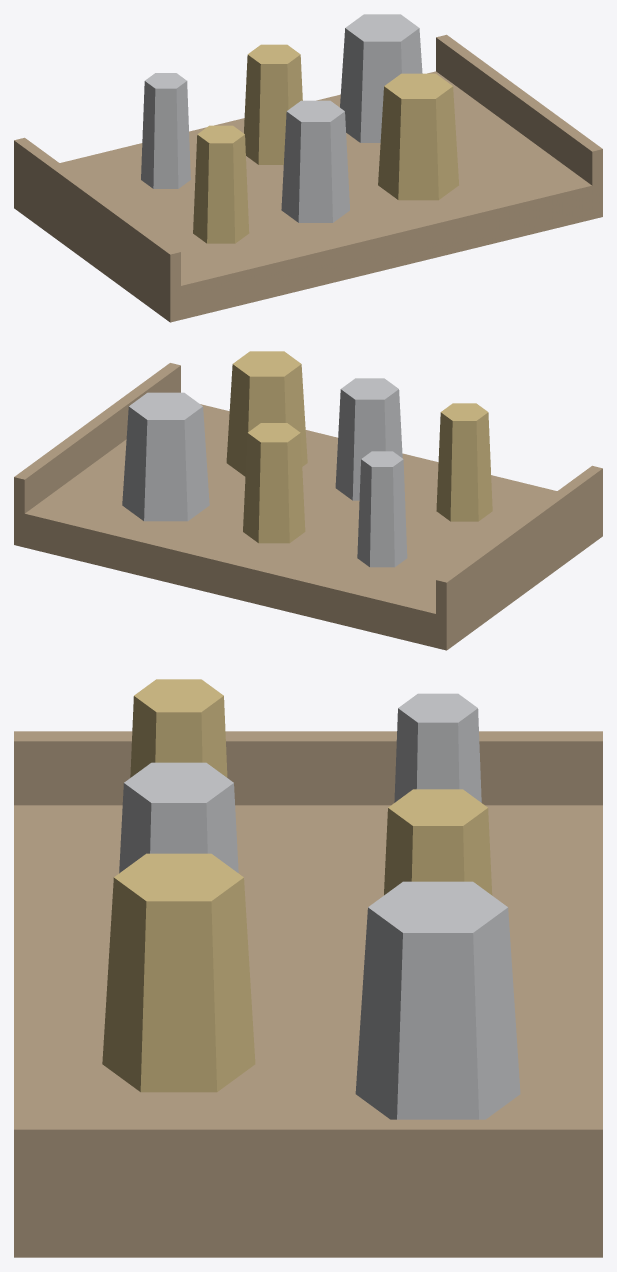
The model's file is prop-ferrule-blank-brm1.fbx.
3 views of the same model, one above another, from view 1: azimuth 30°, elevation 25°; view 2: azimuth 150°, elevation 25°; view 3: azimuth 270°, elevation 25° (orthographic). The views are drawn at different scales.
Parts seen in each view (by area): view 1: prop-ferrule-blank-brm1; view 2: prop-ferrule-blank-brm1; view 3: prop-ferrule-blank-brm1.
Part boxes in pixels (<box>): prop-ferrule-blank-brm1: <box>14,14,602,322</box>; prop-ferrule-blank-brm1: <box>14,351,602,650</box>; prop-ferrule-blank-brm1: <box>14,679,602,1257</box>.
Size of the model in its own units: 16 by 4.7 by 10.
